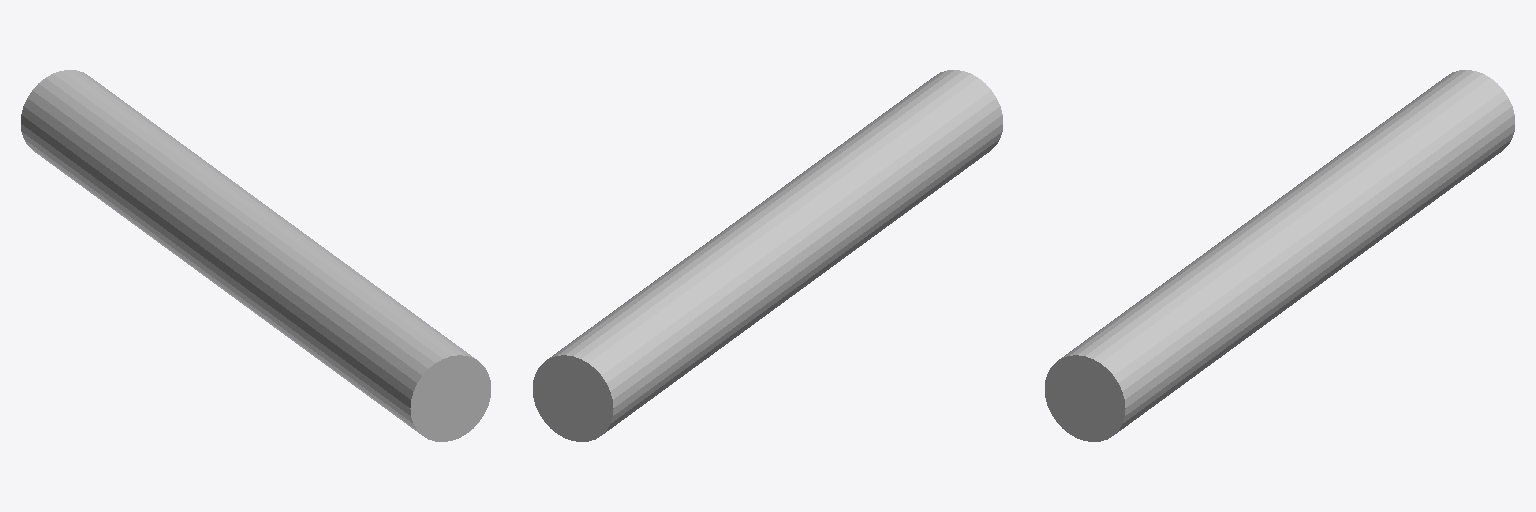
The robot description file, URDF, robot "cylinder":
<?xml version="0.0" ?>
<robot name="cylinder">
    <material name="grey">
        <color rgba="0.8 0.8 0.8 1"/>
    </material>

    <link name="baseLink">
        <!--    not stable-->
        <contact>
            <lateral_friction value="1.0"/>
            <rolling_friction value="0.0"/>
        </contact>
        <inertial>
            <origin rpy="0 0 0" xyz="0 0 0"/>
            <mass value="0.01"/>
            <inertia ixx="1" ixy="0" ixz="0" iyy="1" iyz="0" izz="1"/>
        </inertial>
        <visual>
            <origin rpy="1.57079632679 0 0" xyz="0 0 0"/>
            <geometry>
                <cylinder length="0.01" radius="0.0006"/>
            </geometry>
            <material name="grey"/>
        </visual>
        <collision>
            <origin rpy="1.57079632679 0 0" xyz="0 0 0"/>
            <geometry>
                <cylinder length="0.01" radius="0.0006"/>
            </geometry>
        </collision>
    </link>
</robot>

--- What the picture shows (computed from the rendered views, not written in the file) ---
The picture shows the robot from 3 angles, left to right: view 1: azimuth 30°, elevation 25°; view 2: azimuth 150°, elevation 25°; view 3: azimuth 330°, elevation 25°; orthographic projection.
Robot: cylinder — 1 links, 0 joints (none); root link baseLink; default pose: every joint at zero.
Links seen in each view (by area): view 1: baseLink; view 2: baseLink; view 3: baseLink.
Link boxes in pixels (x1,y1,x2,y2): baseLink: (21, 70, 490, 441); baseLink: (533, 70, 1002, 441); baseLink: (1045, 70, 1514, 441).
Size in the robot's own frame: 0.0012 by 0.01 by 0.0012 metres.
Geometry: primitives only (box / cylinder / sphere), no mesh files.